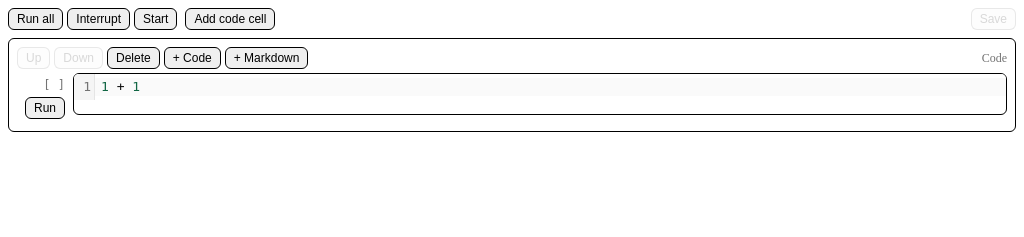
running (ac-1) › saves missing cell ids first, runs the cell and shows its outputs live, then the saved file
Click the button with aria-label "Run cell 1" at {"x": 45, "y": 108}, box 25,97 -> 65,119
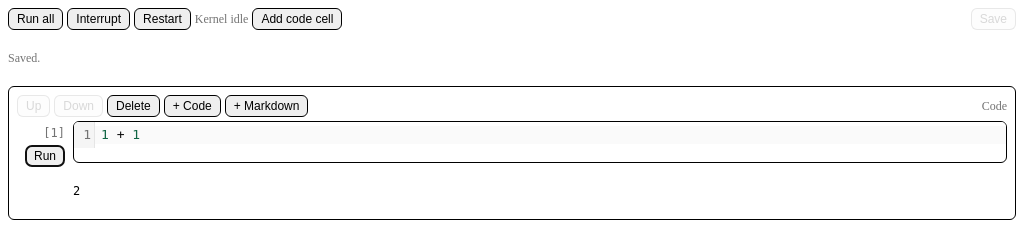
Expected: the text "Kernel idle" is shown, 195,11 -> 248,27
